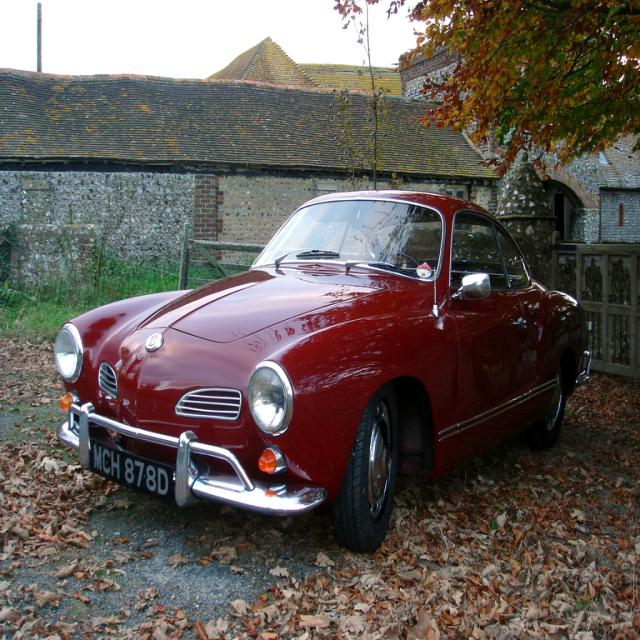car: (55, 186, 592, 552)
